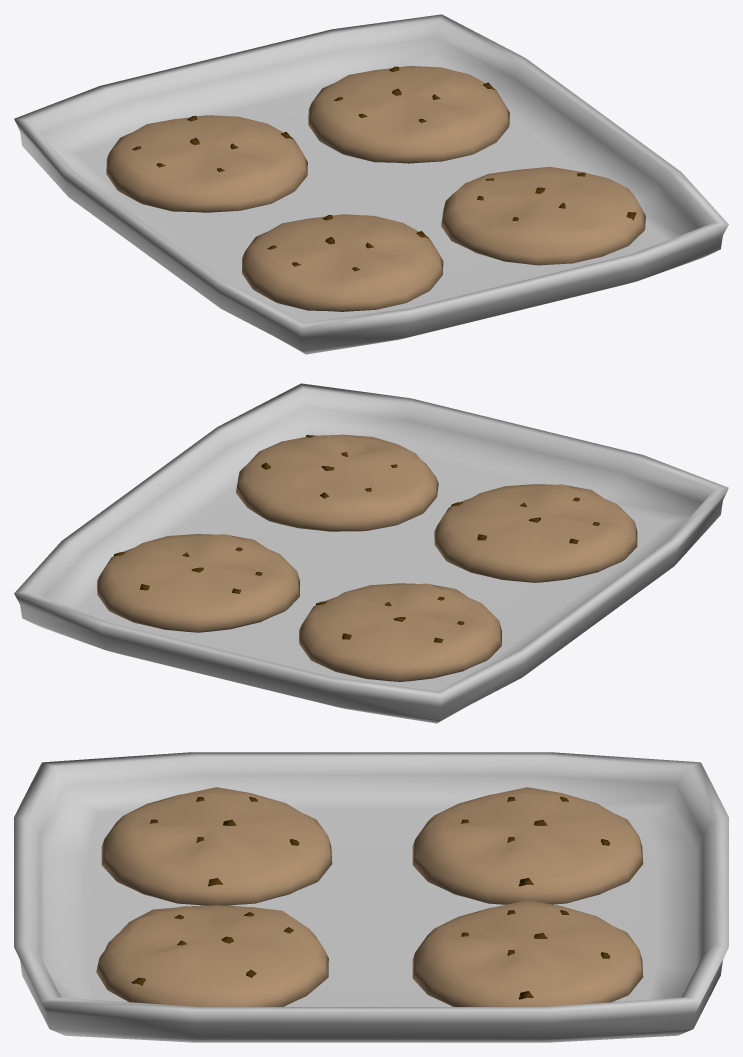
File: Cookie.fbx
The picture shows the model from 3 angles, top to bottom: view 1: azimuth 30°, elevation 25°; view 2: azimuth 150°, elevation 25°; view 3: azimuth 270°, elevation 25°; orthographic projection. The views are drawn at different scales.
Visible parts, largest first — view 1: Box008; view 2: Box008; view 3: Box008.
Boxes of the visible parts, x1,y1,x2,y2 form: Box008: (14,14,728,354); Box008: (14,383,728,723); Box008: (14,752,728,1042).
Bounding box in the file's own units: 165 × 15.02 × 192.
